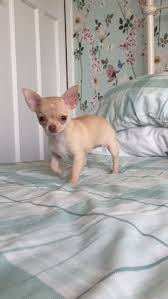chihuahua: (13, 74, 140, 199)
